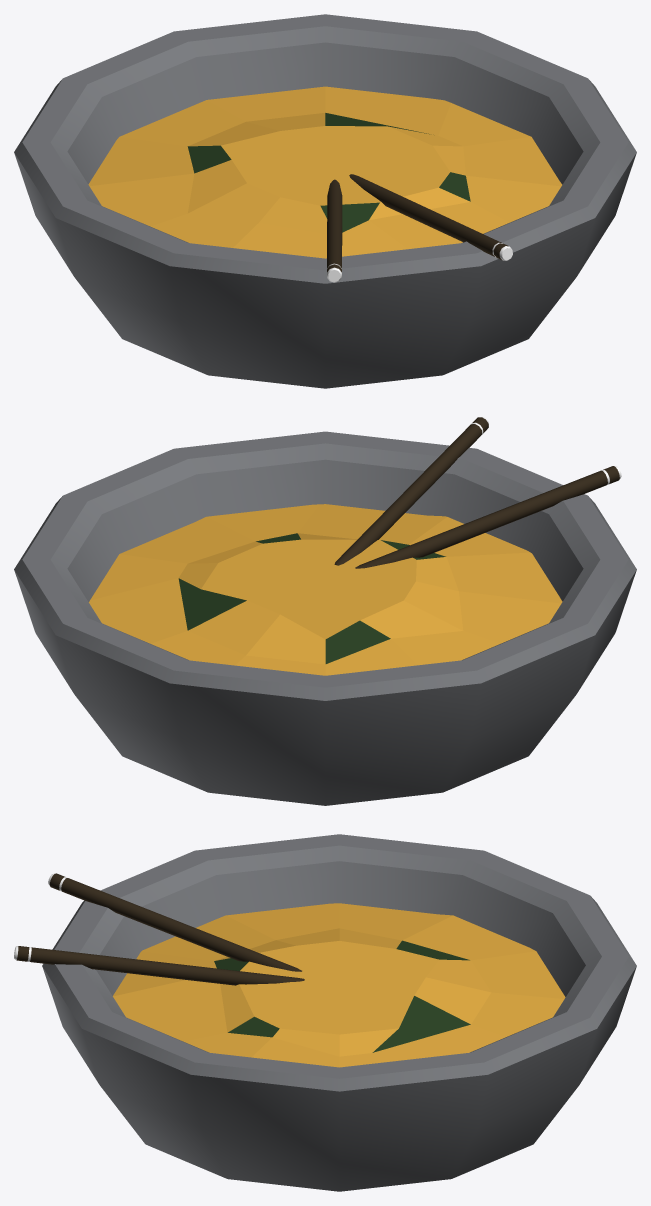
The model's file is Soup_1.fbx.
3 views of the same model, one above another, from view 1: azimuth 30°, elevation 25°; view 2: azimuth 150°, elevation 25°; view 3: azimuth 270°, elevation 25° (orthographic). The views are drawn at different scales.
Parts seen in each view (by area): view 1: Soup_1; view 2: Soup_1; view 3: Soup_1.
Part boxes in pixels (x1=…): Soup_1: x1=14, y1=14, x2=636, y2=388; Soup_1: x1=14, y1=417, x2=636, y2=805; Soup_1: x1=14, y1=834, x2=636, y2=1191.
Size of the model in its own units: 45.37 by 13.29 by 47.51.
